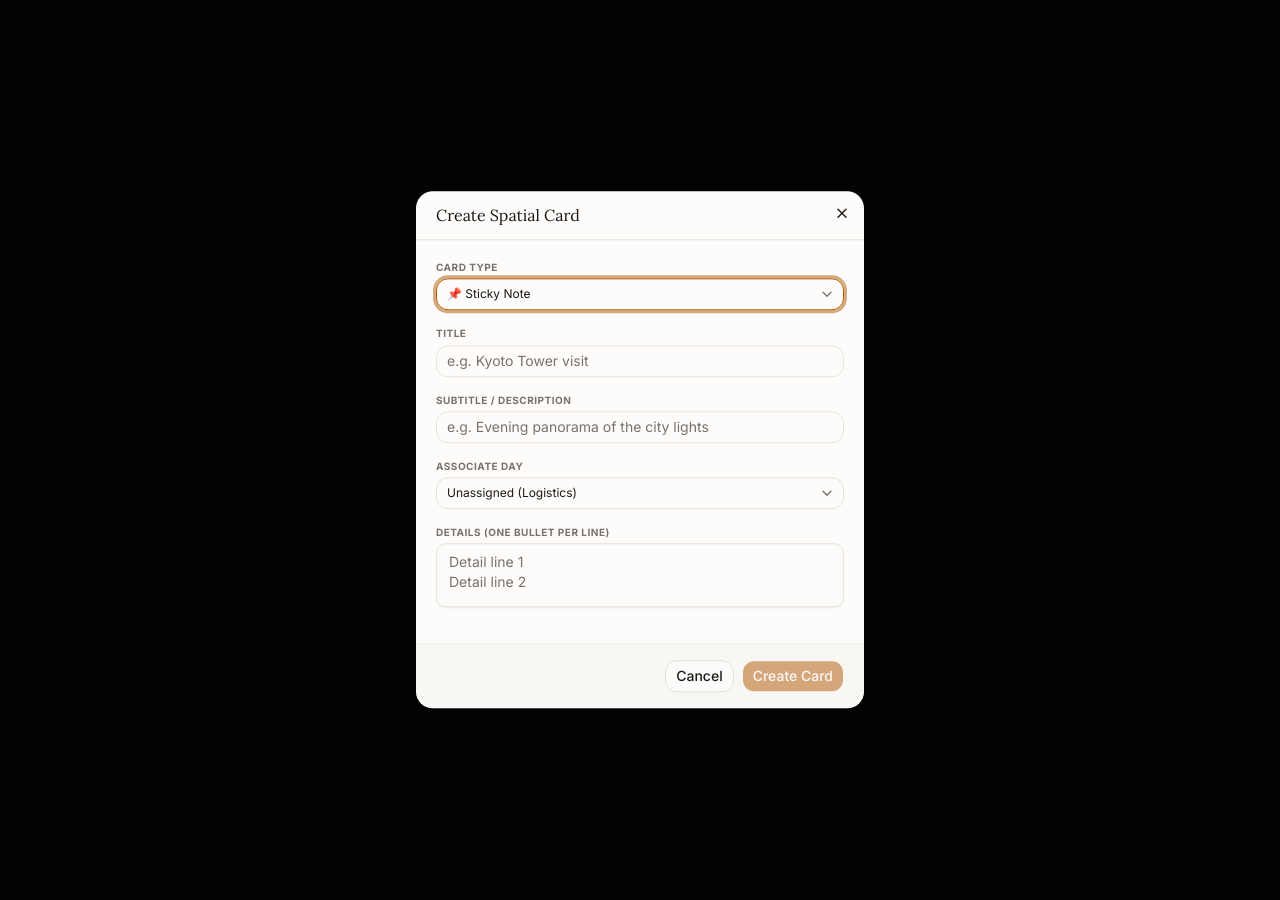
it: CreateCardModal › opens card type and associate day selects above the dialog
expect the heading "Create Spatial Card" is shown: met, box [436,205,580,225]
Click the dropdown labelled "📌 Sticky Note". click: (489, 294)
box: [436,279,844,311]
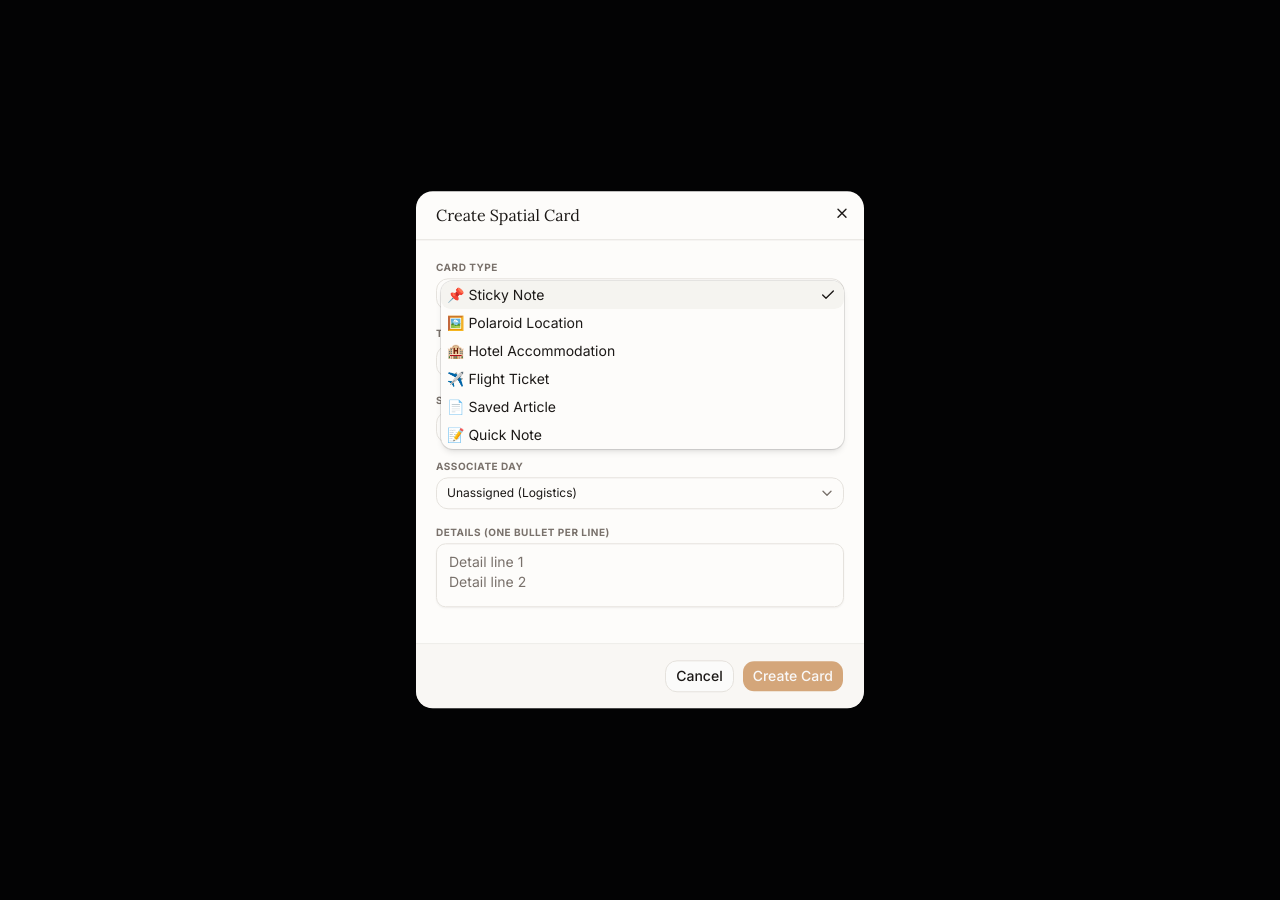
expect the dropdown is expanded: met, box [436,279,844,311]
expect the option "🖼️ Polaroid Location" is shown: met, box [447,314,583,331]
Press Escape
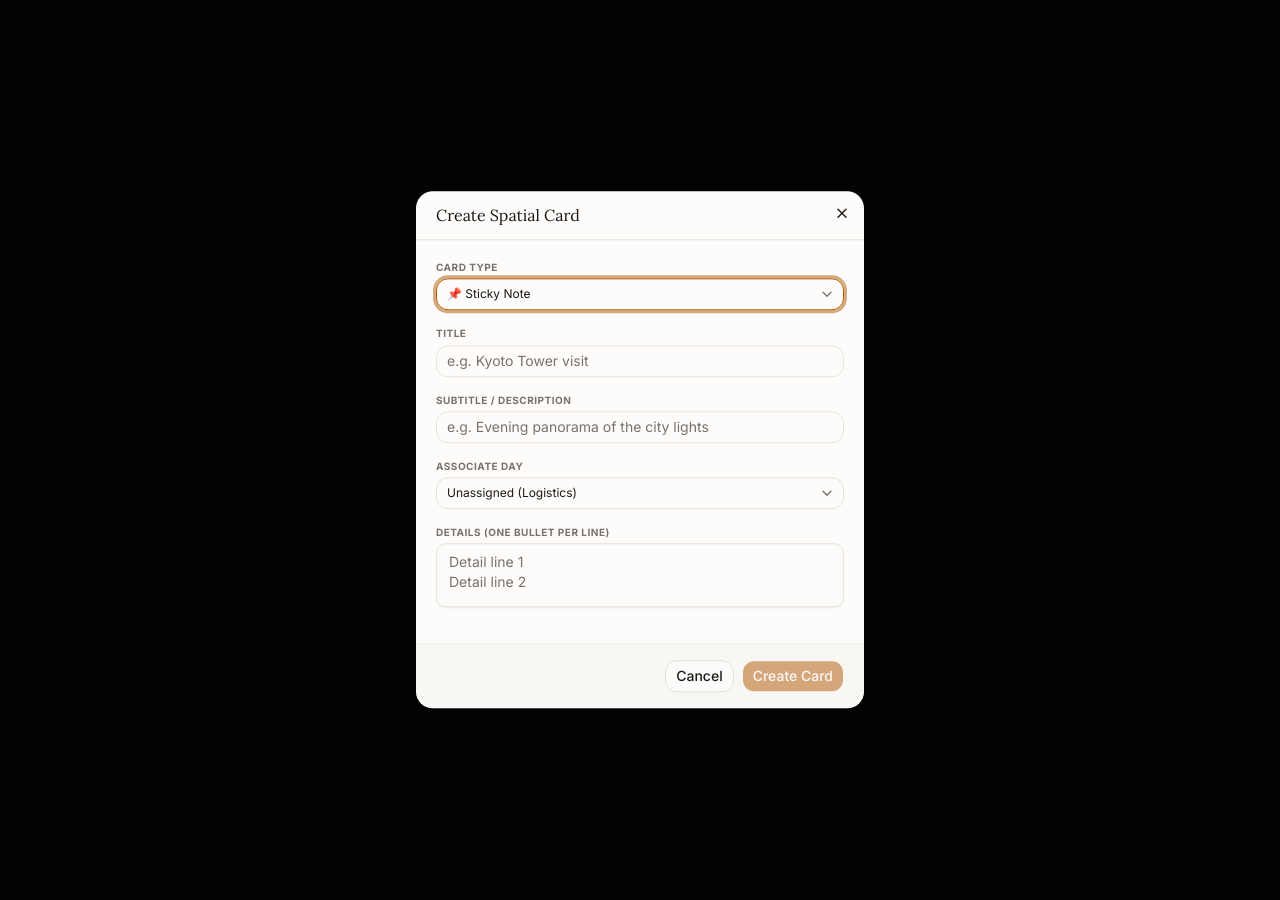
expect the dropdown labelled "📌 Sticky Note" is collapsed: met, box [436,279,844,311]
Click the dropdown labelled "Unassigned (Logistics)". click: (512, 493)
box: [436,477,844,509]
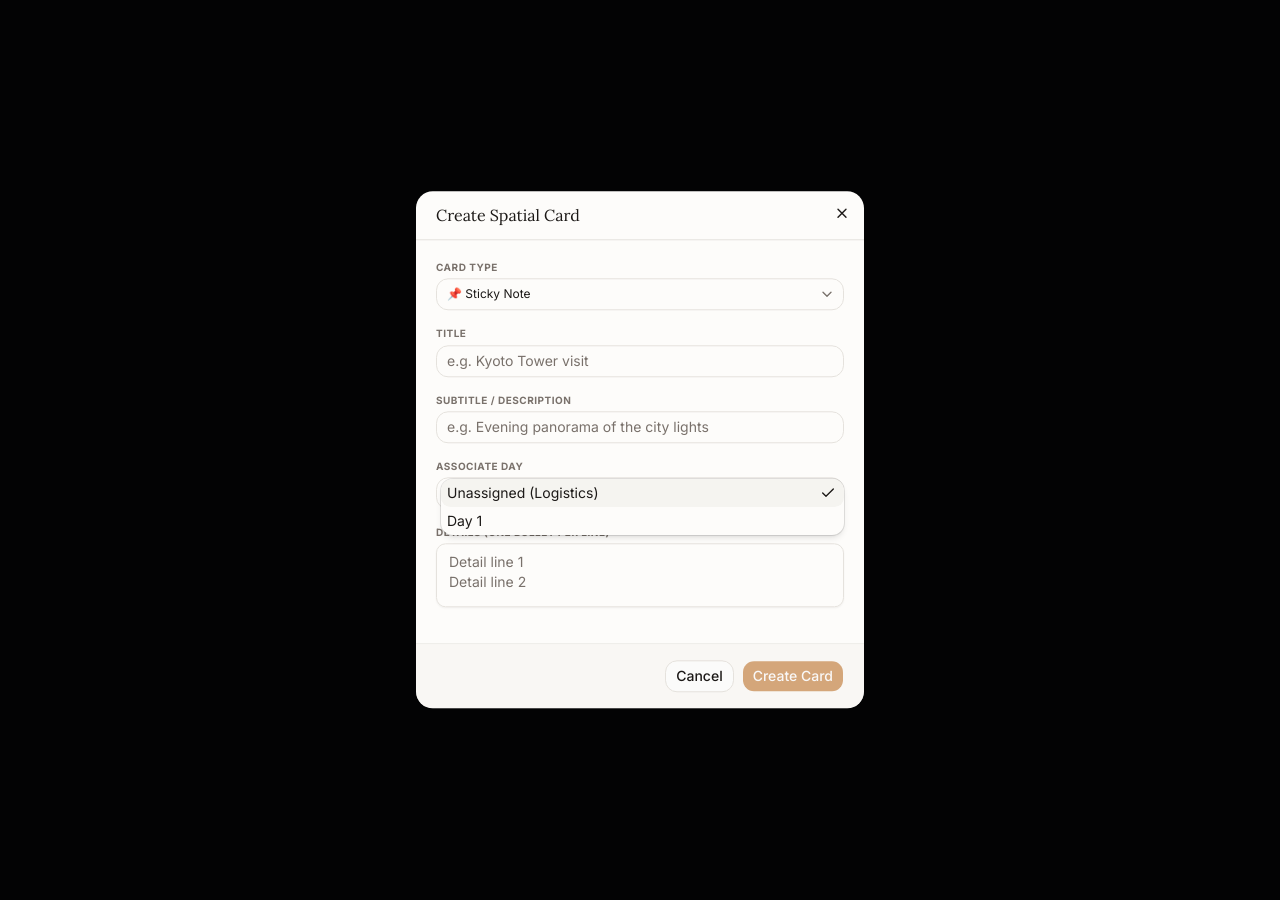
expect the dropdown is expanded: met, box [436,477,844,509]
expect the option "Day 1" is shown: met, box [447,512,482,529]
